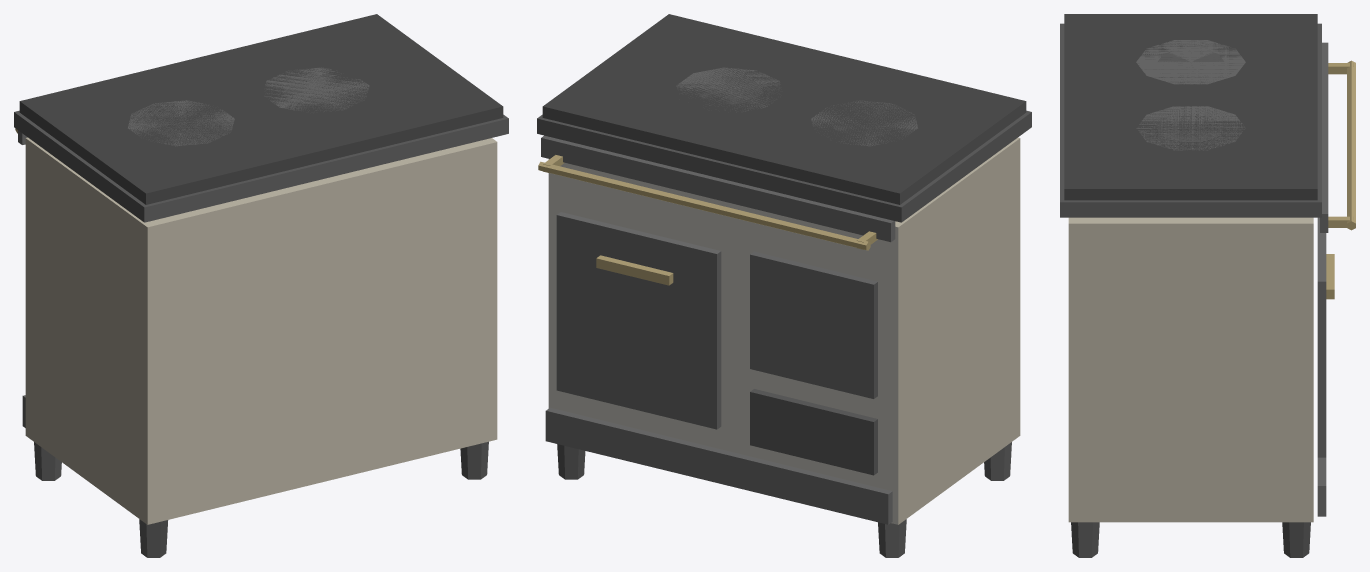
Rendered from herd_klein.glb.
3 renders of one model, left to right at view 1: azimuth 30°, elevation 25°; view 2: azimuth 150°, elevation 25°; view 3: azimuth 270°, elevation 25°, orthographic.
Visible parts, largest first — view 1: herd; view 2: herd; view 3: herd.
Boxes of the visible parts, x1,y1,x2,y2 form: herd: [14, 14, 508, 557]; herd: [537, 14, 1031, 557]; herd: [1060, 14, 1355, 557].
Size of the model in its own units: 1 by 0.975 by 0.7004.
